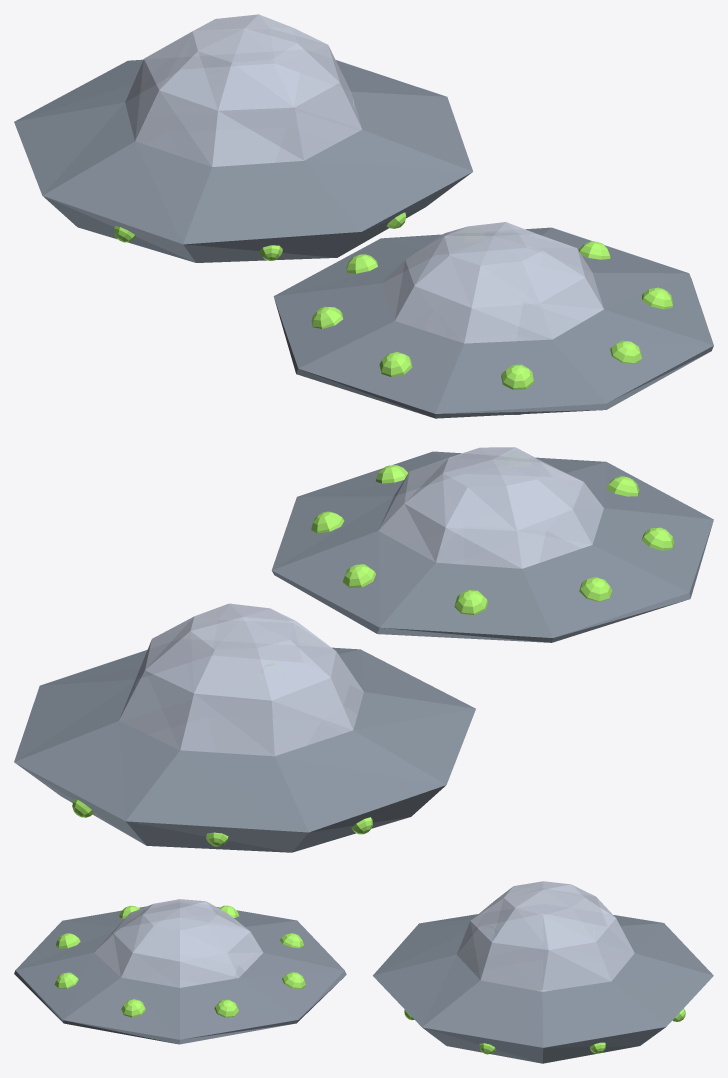
File: SM_ufo_AC.fbx
3 renders of one model, top to bottom at view 1: azimuth 30°, elevation 25°; view 2: azimuth 150°, elevation 25°; view 3: azimuth 270°, elevation 25°, orthographic. The views are drawn at different scales.
Visible parts, largest first — view 1: SM_ufo_2_AC, SM_ufo_1_AC; view 2: SM_ufo_2_AC, SM_ufo_1_AC; view 3: SM_ufo_2_AC, SM_ufo_1_AC.
Boxes of the visible parts, bbox=[...] form: SM_ufo_2_AC: bbox=[14, 14, 472, 262]; SM_ufo_1_AC: bbox=[273, 222, 713, 418]; SM_ufo_2_AC: bbox=[14, 603, 475, 852]; SM_ufo_1_AC: bbox=[271, 447, 713, 642]; SM_ufo_2_AC: bbox=[373, 881, 713, 1063]; SM_ufo_1_AC: bbox=[14, 899, 346, 1044].
Bounding box in the file's own units: 20.19 × 41.39 × 9.24.
